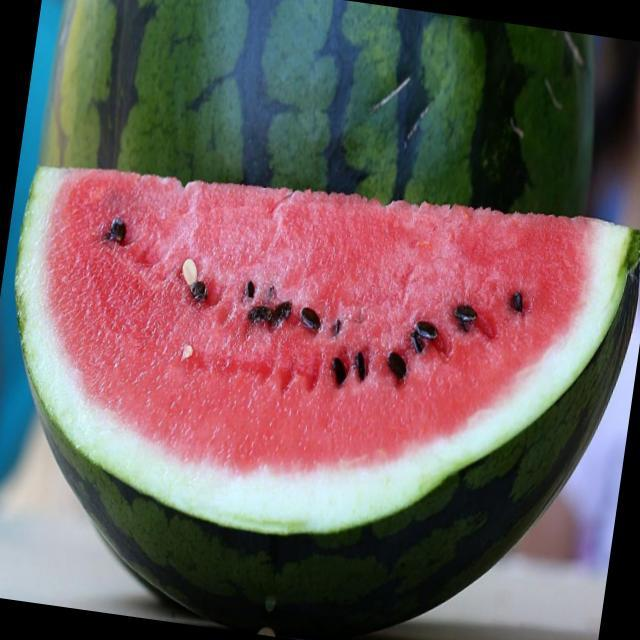WATERMELON: (0, 144, 640, 640)
